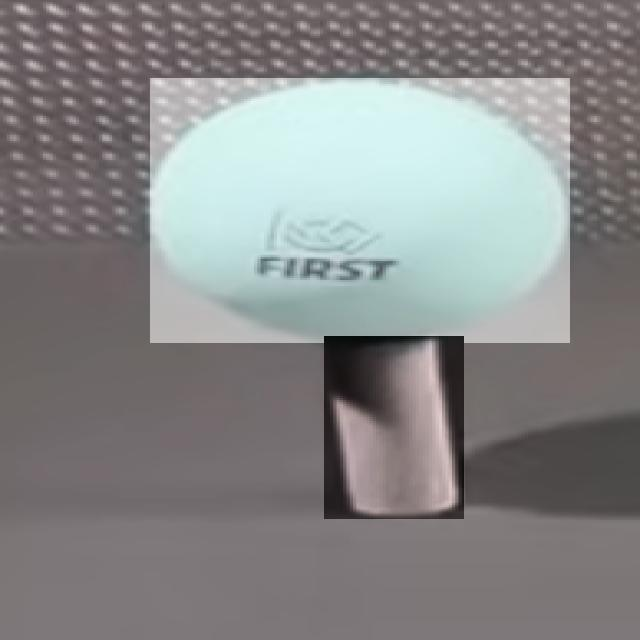Algae: (150, 78, 570, 343)
Coral: (324, 336, 464, 519)
